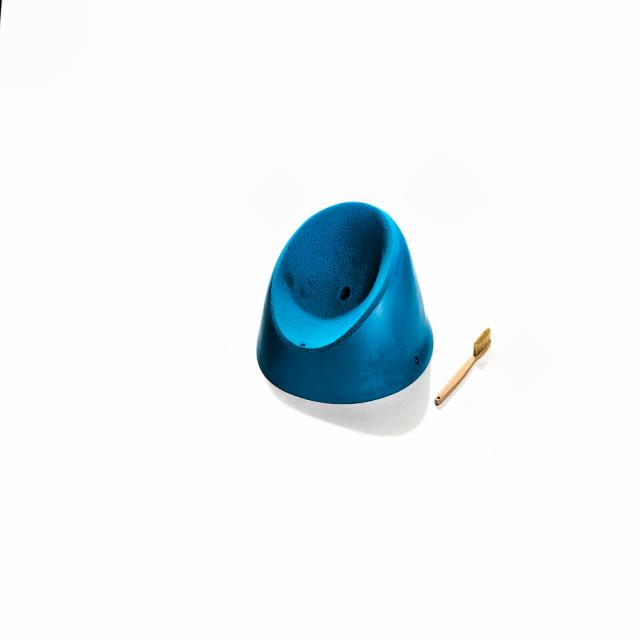Hold: (248, 198, 434, 406)
